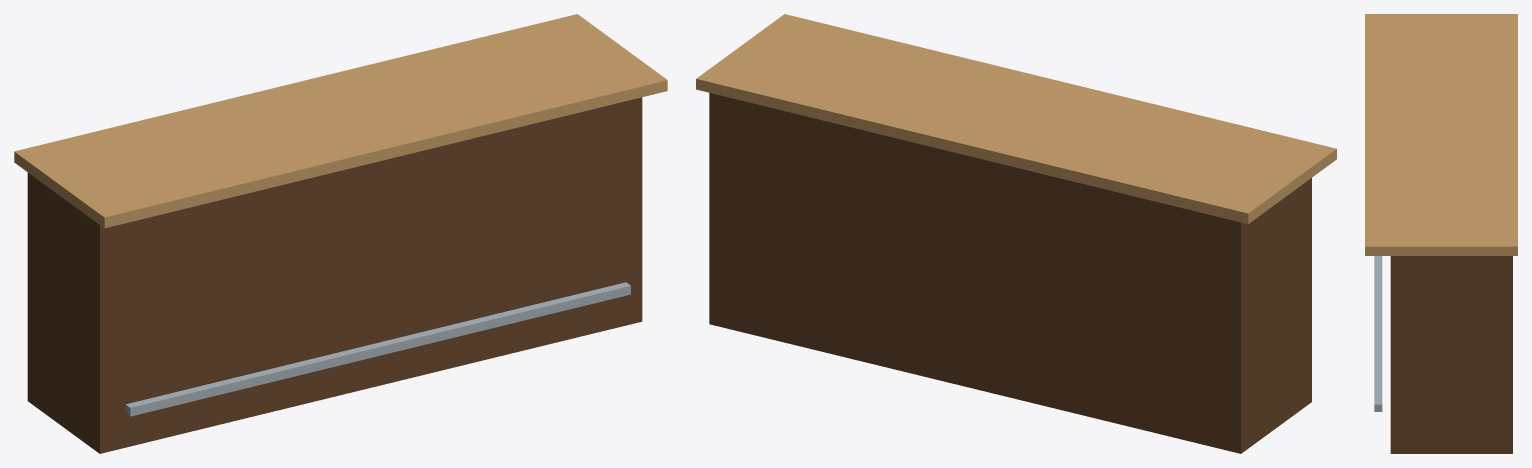
Rendered from GH_Counter_Bar_01.glb.
3 views of the same model, side by side, from view 1: azimuth 30°, elevation 25°; view 2: azimuth 150°, elevation 25°; view 3: azimuth 270°, elevation 25° (orthographic). The views are drawn at different scales.
Visible parts, largest first — view 1: GH_Counter_Bar_01; view 2: GH_Counter_Bar_01; view 3: GH_Counter_Bar_01.
Boxes of the visible parts, x1,y1,x2,y2 form: GH_Counter_Bar_01: (14,14,667,453); GH_Counter_Bar_01: (696,14,1336,453); GH_Counter_Bar_01: (1365,14,1517,453).
Size of the model in its own units: 2.7 by 1.14 by 0.75.
1 material, 1 textured.
